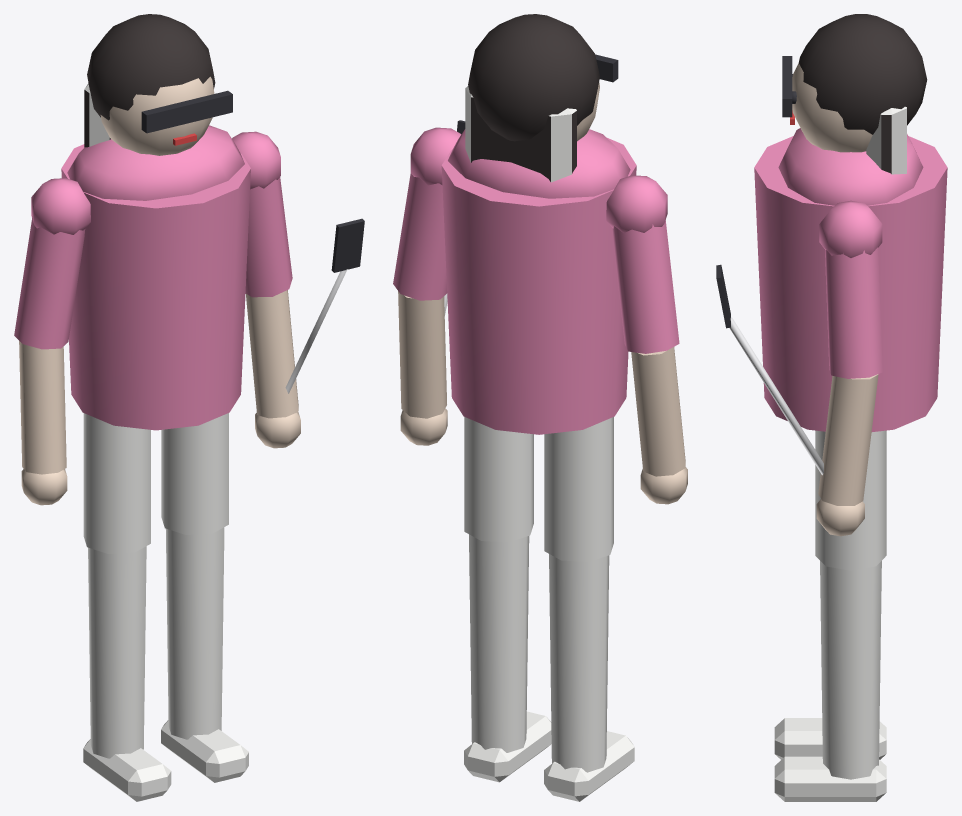
File: SM_NPC_Influencer.fbx
The picture shows the model from 3 angles, left to right: view 1: azimuth 30°, elevation 25°; view 2: azimuth 150°, elevation 25°; view 3: azimuth 270°, elevation 25°; orthographic projection. The views are drawn at different scales.
Parts seen in each view (by area): view 1: SM_NPC_Influencer; view 2: SM_NPC_Influencer; view 3: SM_NPC_Influencer.
Boxes of the visible parts, x1,y1,x2,y2 form: SM_NPC_Influencer: [14, 14, 364, 801]; SM_NPC_Influencer: [393, 14, 687, 801]; SM_NPC_Influencer: [716, 14, 947, 801].
Size of the model in its own units: 0.6476 by 1.64 by 0.4545.
